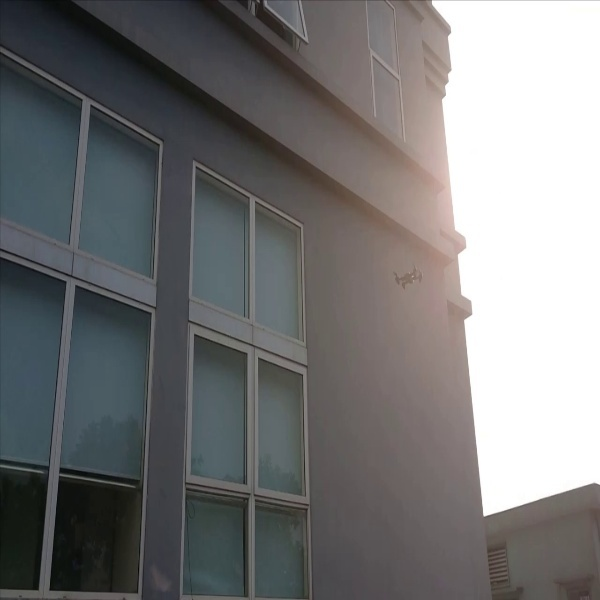drone: (386, 253, 431, 296)
